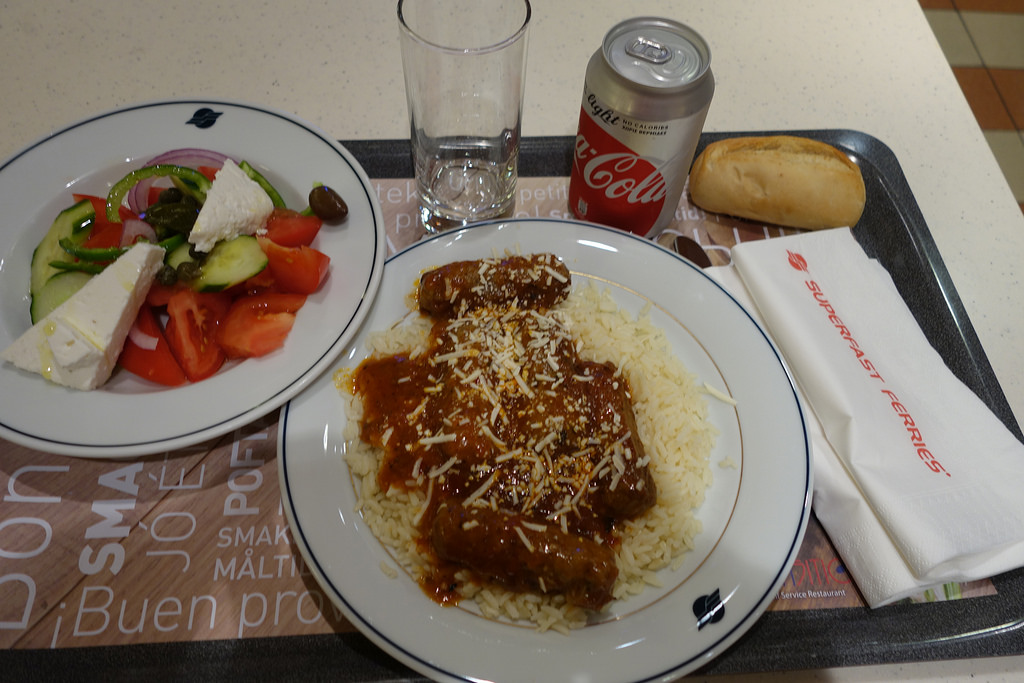meatballs: (445, 295, 596, 587)
